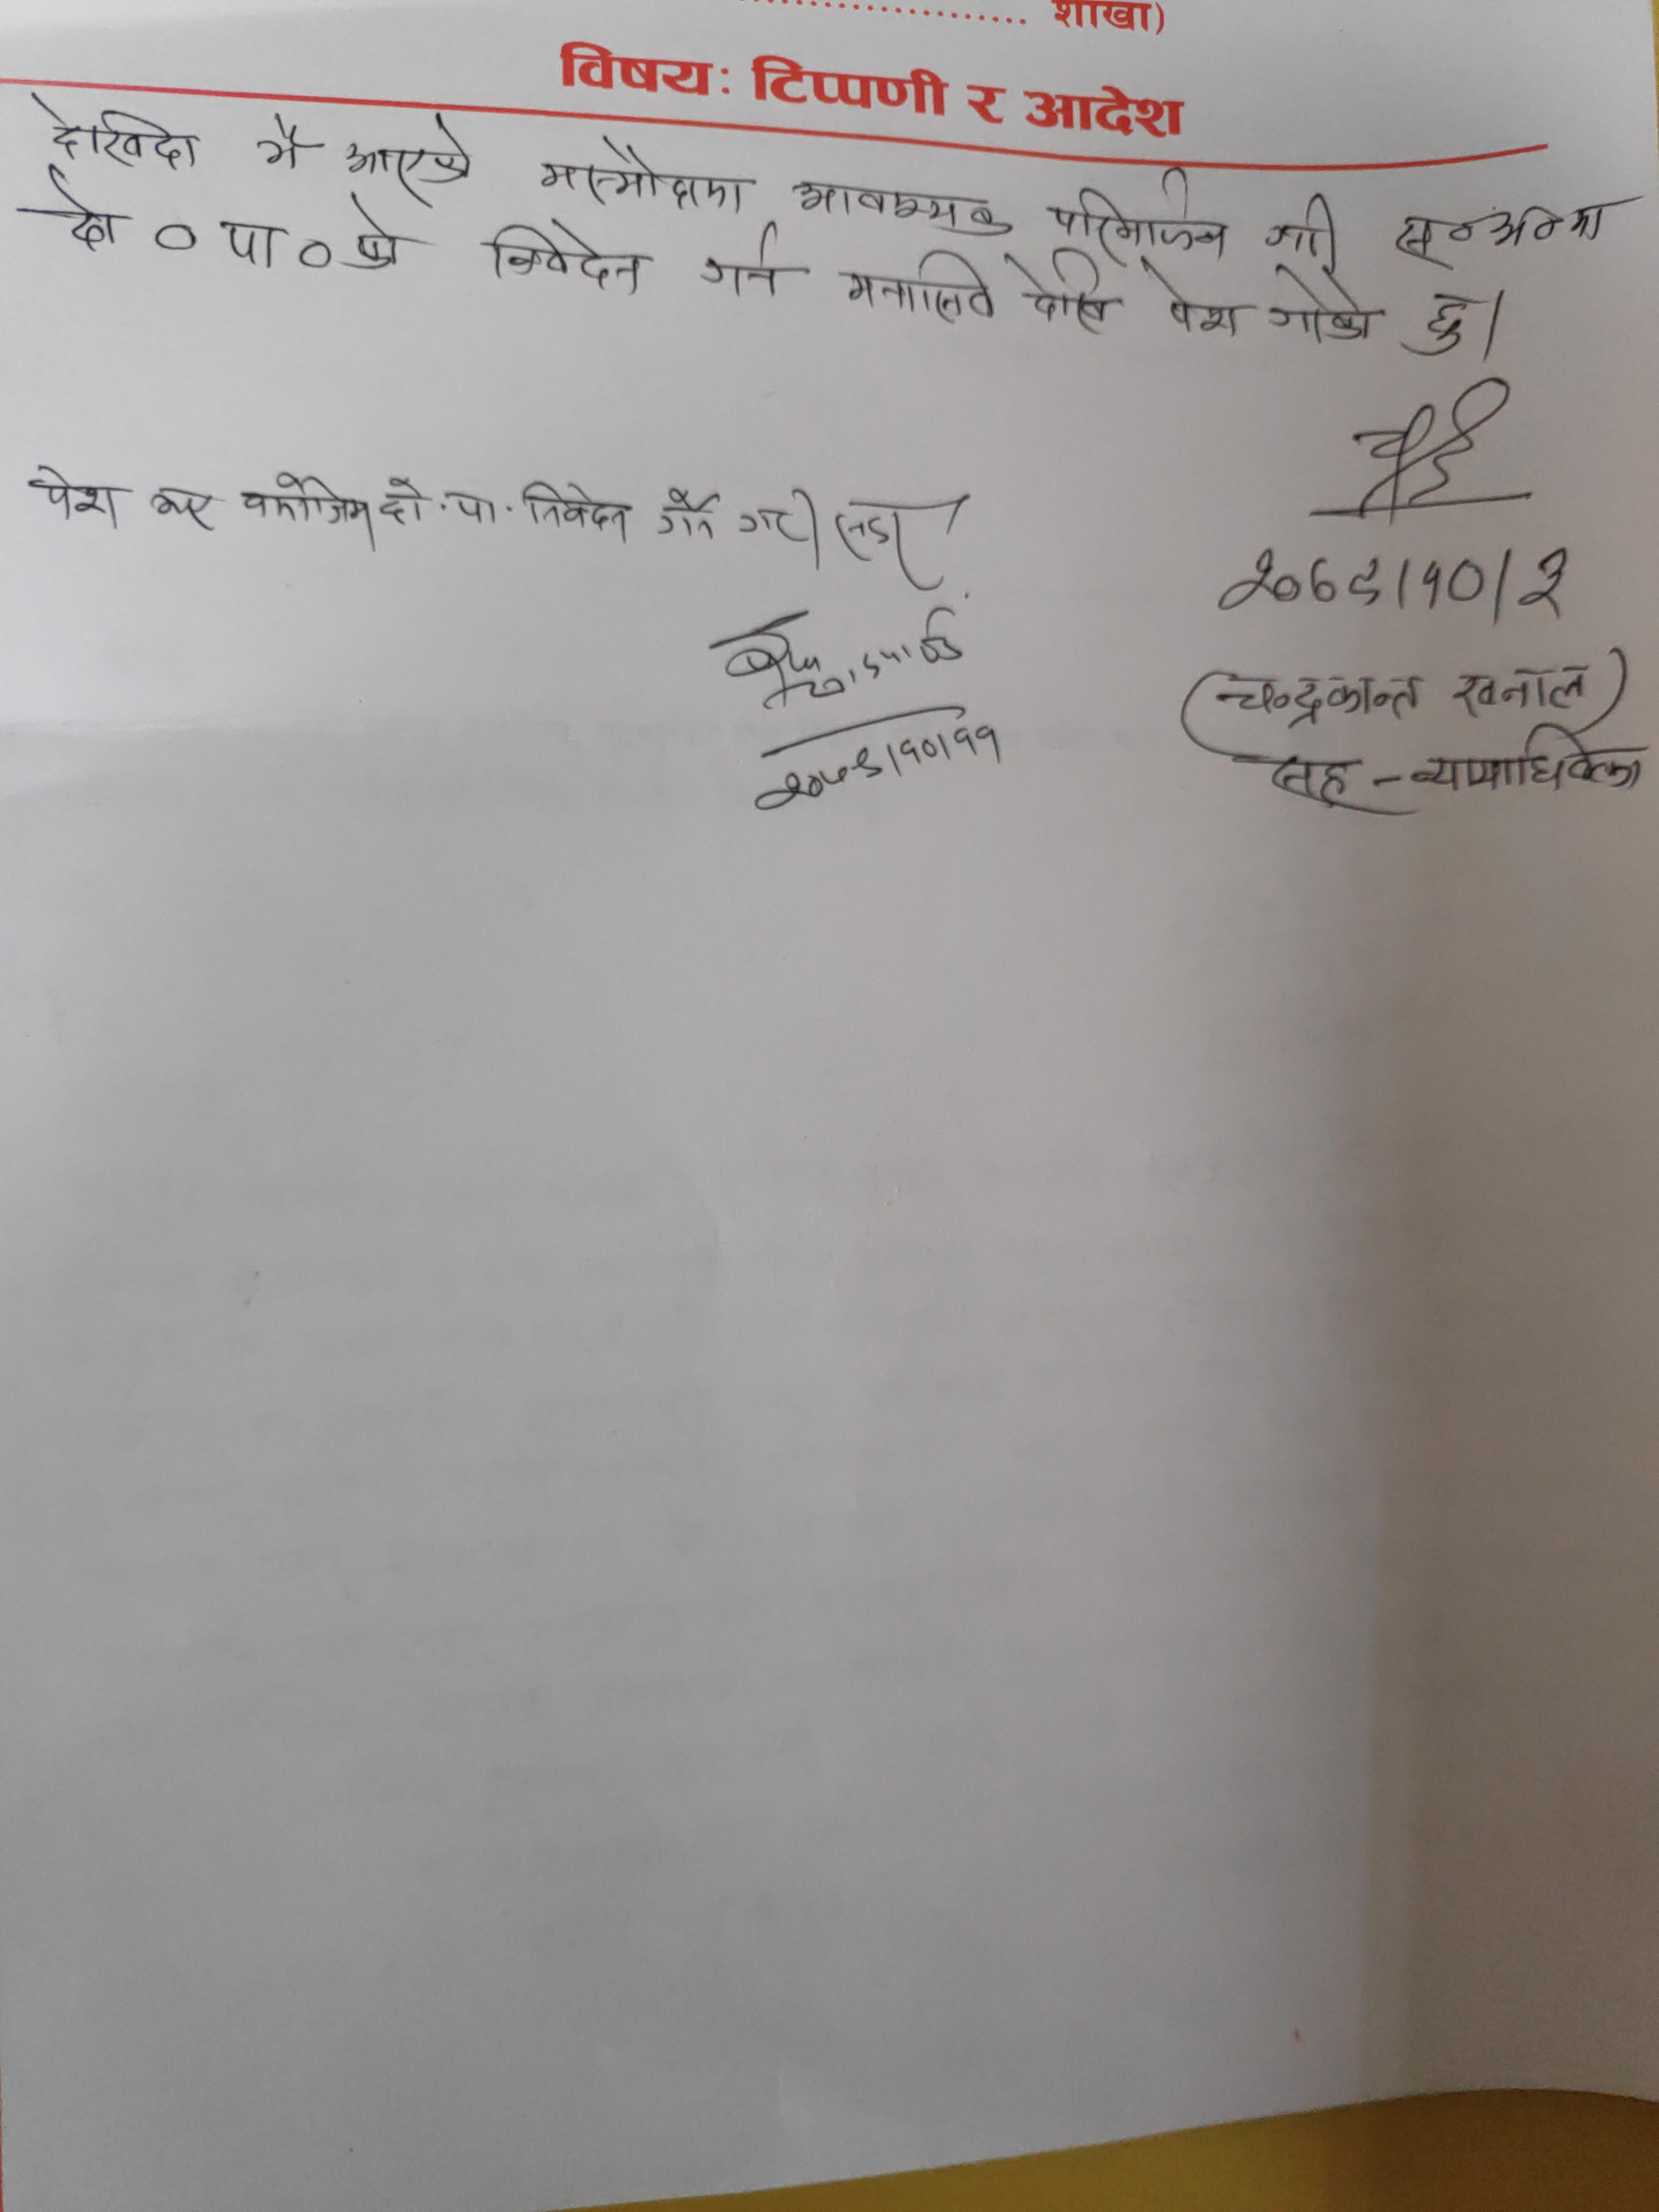text: (1209, 543, 1593, 625), (751, 730, 1019, 820), (1410, 721, 1659, 803), (535, 129, 751, 221), (1382, 200, 1622, 268), (786, 172, 1016, 239), (1215, 660, 1427, 732), (1049, 164, 1227, 249), (21, 91, 202, 171), (477, 216, 650, 298), (831, 247, 1000, 324), (830, 488, 943, 597), (343, 105, 471, 200), (235, 469, 373, 554), (1265, 260, 1384, 347), (1006, 247, 1115, 336), (1446, 658, 1593, 723), (1147, 258, 1248, 345), (516, 475, 633, 549), (376, 470, 512, 531), (732, 477, 821, 568), (37, 172, 125, 251), (694, 226, 793, 296), (1258, 747, 1356, 813), (1265, 188, 1356, 256), (33, 463, 122, 529), (650, 477, 725, 545), (342, 200, 403, 277), (1412, 284, 1476, 355), (251, 113, 310, 185), (213, 216, 284, 273), (143, 477, 218, 529)
